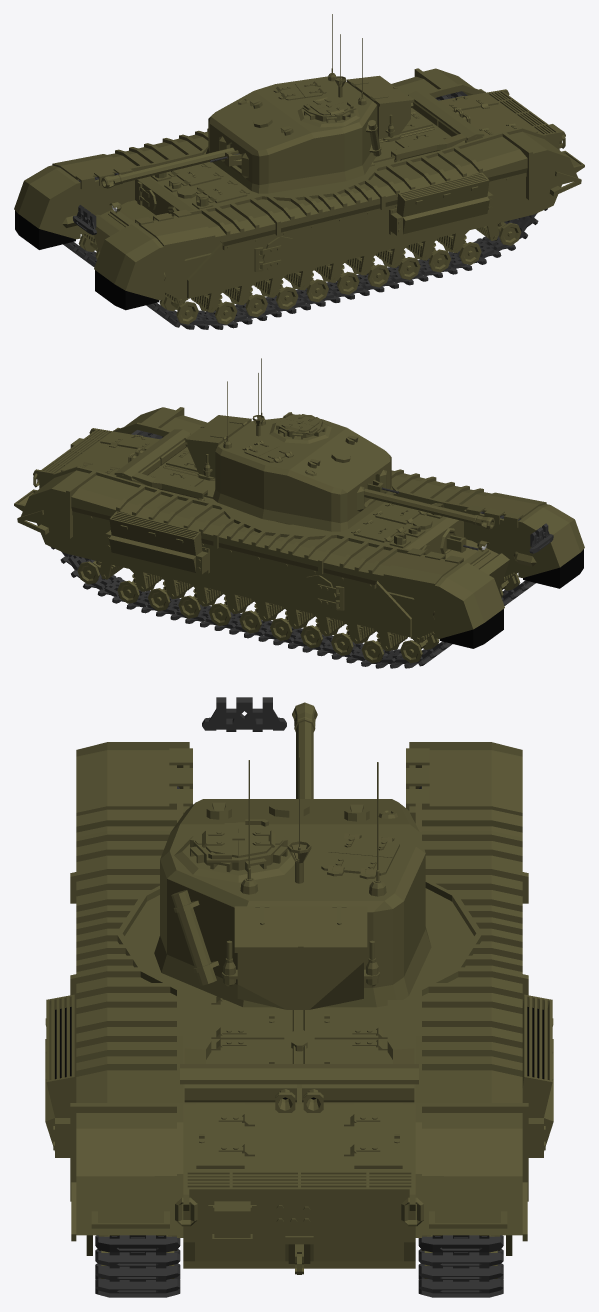
3 views of the same model, one above another, from view 1: azimuth 30°, elevation 25°; view 2: azimuth 150°, elevation 25°; view 3: azimuth 270°, elevation 25° (orthographic). The views are drawn at different scales.
Parts seen in each view (by area): view 1: 3, 1, 4, 2, 4.6-6, 4.014, truck, 4.11, 4.2, 4.10, 4.7, 4.8 (+13 smaller); view 2: 3, 1, 4.014, 2, 4.6-6.001, 4, truck, 4.027, 4.023, 4.025, 4.021, 4.024 (+13 smaller); view 3: 3, 1, 4, 4.014, truck, 2, 1.3, 1.4, 1.1, 1.2.
Boxes of the visible parts, bbox=[...] form: 3: bbox=[14, 68, 584, 310]; 1: bbox=[206, 14, 412, 193]; 4: bbox=[146, 208, 547, 329]; 2: bbox=[101, 147, 234, 188]; 4.6-6: bbox=[159, 294, 198, 324]; 4.014: bbox=[63, 91, 467, 267]; truck: bbox=[73, 205, 96, 234]; 4.11: bbox=[191, 290, 224, 312]; 4.2: bbox=[436, 230, 468, 252]; 4.10: bbox=[222, 282, 254, 305]; 4.7: bbox=[314, 260, 346, 282]; 4.8: bbox=[283, 268, 315, 290]; 3: bbox=[14, 407, 584, 648]; 1: bbox=[185, 358, 399, 531]; 4.014: bbox=[51, 547, 452, 668]; 2: bbox=[364, 488, 494, 529]; 4.6-6.001: bbox=[400, 633, 439, 663]; 4: bbox=[131, 430, 535, 605]; truck: bbox=[529, 523, 553, 553]; 4.027: bbox=[374, 628, 407, 651]; 4.023: bbox=[252, 599, 284, 621]; 4.025: bbox=[313, 614, 345, 636]; 4.021: bbox=[191, 584, 223, 606]; 4.024: bbox=[282, 606, 315, 628]; 3: bbox=[45, 742, 553, 1274]; 1: bbox=[154, 756, 431, 1009]; 4: bbox=[95, 786, 180, 1297]; 4.014: bbox=[418, 786, 503, 1297]; truck: bbox=[202, 697, 286, 731]; 2: bbox=[292, 702, 317, 798]; 1.3: bbox=[328, 834, 399, 859]; 1.4: bbox=[321, 852, 392, 875]; 1.1: bbox=[202, 826, 238, 857]; 1.2: bbox=[239, 826, 275, 857].
Size of the model in its own units: 699 by 313 by 324.
